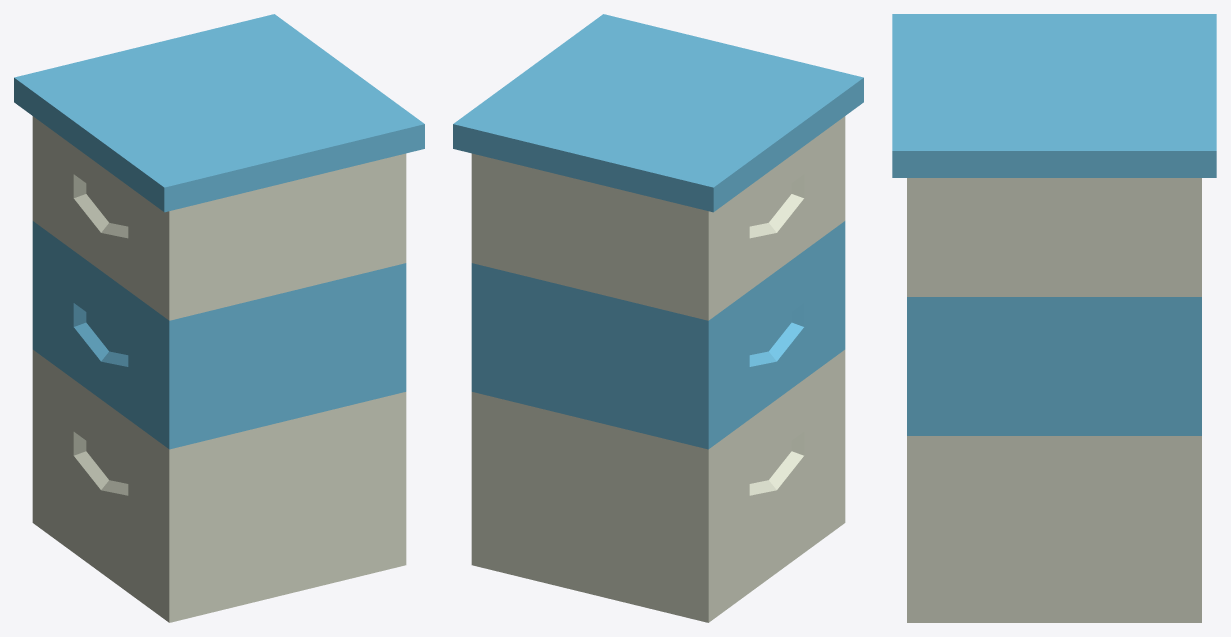
The model's file is StackedBeeBox.fbx.
The picture shows the model from 3 angles, left to right: view 1: azimuth 30°, elevation 25°; view 2: azimuth 150°, elevation 25°; view 3: azimuth 270°, elevation 25°; orthographic projection. The views are drawn at different scales.
Parts seen in each view (by area): view 1: BeeBox_Body01, BeeBox_Lid, BeeBox_Body02, BeeBox_Body03; view 2: BeeBox_Body01, BeeBox_Lid, BeeBox_Body02, BeeBox_Body03; view 3: BeeBox_Body01, BeeBox_Lid, BeeBox_Body02, BeeBox_Body03.
Boxes of the visible parts, x1,y1,x2,y2 form: BeeBox_Body01: [32, 350, 406, 622]; BeeBox_Lid: [14, 14, 424, 212]; BeeBox_Body02: [32, 221, 406, 449]; BeeBox_Body03: [32, 116, 406, 320]; BeeBox_Body01: [471, 350, 845, 622]; BeeBox_Lid: [453, 14, 863, 212]; BeeBox_Body02: [471, 221, 845, 449]; BeeBox_Body03: [471, 116, 845, 320]; BeeBox_Body01: [907, 436, 1201, 622]; BeeBox_Lid: [892, 14, 1216, 177]; BeeBox_Body02: [907, 297, 1201, 435]; BeeBox_Body03: [907, 178, 1201, 296].
Bounding box in the file's own units: 110 × 179 × 110.
